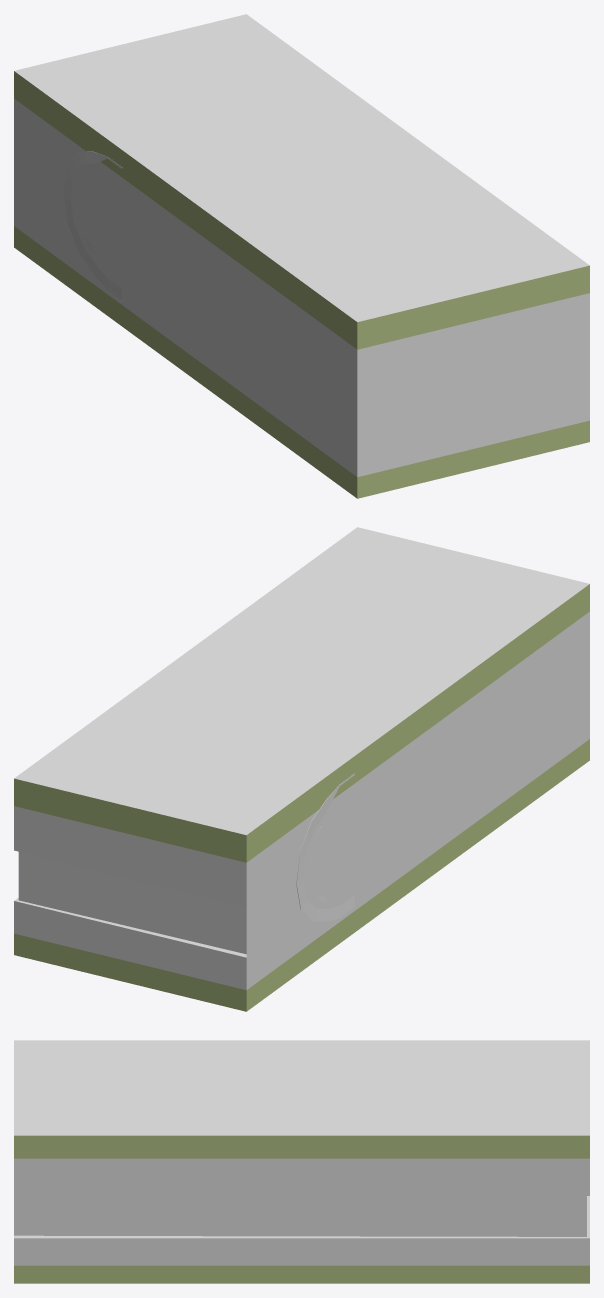
Rendered from green_int.fbx.
The picture shows the model from 3 angles, top to bottom: view 1: azimuth 30°, elevation 25°; view 2: azimuth 150°, elevation 25°; view 3: azimuth 270°, elevation 25°; orthographic projection. The views are drawn at different scales.
Parts seen in each view (by area): view 1: Walls, mirror_part; view 2: Walls, mirror_part; view 3: Walls.
Boxes of the visible parts, x1=… form: Walls: x1=14, y1=14, x2=589, y2=498; mirror_part: x1=63, y1=151, x2=122, y2=300; Walls: x1=14, y1=527, x2=589, y2=1011; mirror_part: x1=296, y1=773, x2=354, y2=921; Walls: x1=14, y1=1040, x2=589, y2=1283.
Size of the model in its own units: 30.17 by 22.81 by 77.06.
